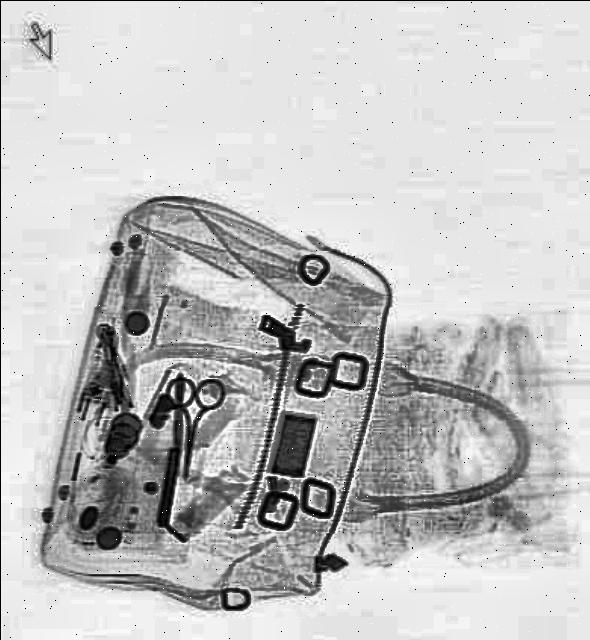Scissors: (156, 377, 227, 483)
